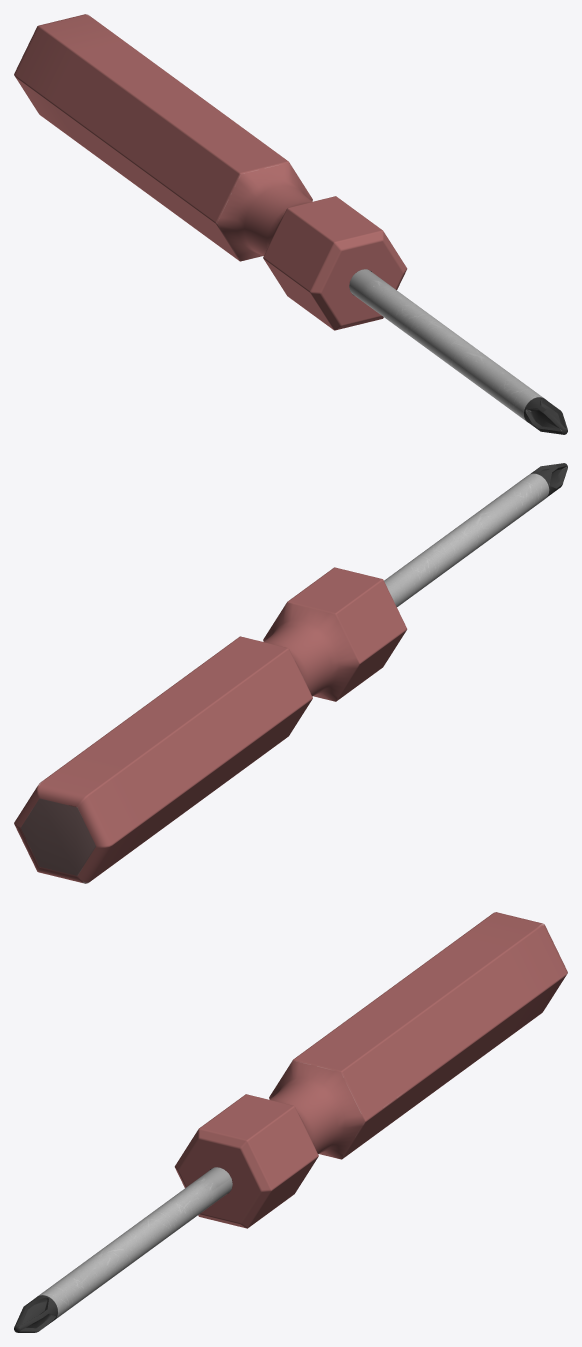
The model's file is screwdriver.glb.
The picture shows the model from 3 angles, top to bottom: view 1: azimuth 30°, elevation 25°; view 2: azimuth 150°, elevation 25°; view 3: azimuth 330°, elevation 25°; orthographic projection.
Visible parts, largest first — view 1: Screwdriver; view 2: Screwdriver; view 3: Screwdriver.
Boxes of the visible parts, left/top/right/bottom form: Screwdriver: left=14, top=14, right=567, bottom=434; Screwdriver: left=14, top=463, right=567, bottom=883; Screwdriver: left=14, top=912, right=567, bottom=1332.
Bounding box in the file's own units: 0.02 × 0.0173 × 0.1803.
Materials: 1 (1 with a texture image).
